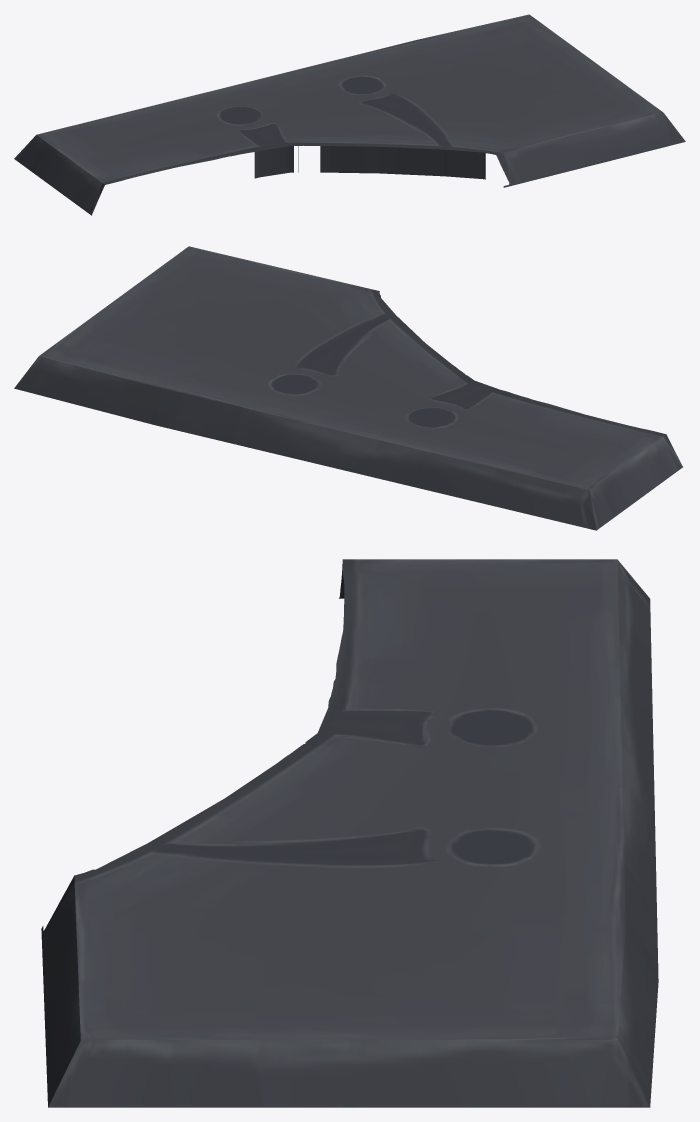
The model's file is Tile04.FBX.
3 views of the same model, one above another, from view 1: azimuth 30°, elevation 25°; view 2: azimuth 150°, elevation 25°; view 3: azimuth 270°, elevation 25° (orthographic). The views are drawn at different scales.
Parts seen in each view (by area): view 1: Box003; view 2: Box003; view 3: Box003.
Boxes of the visible parts, bbox=[...] form: Box003: bbox=[14, 14, 685, 215]; Box003: bbox=[14, 246, 682, 530]; Box003: bbox=[41, 559, 658, 1107].
Size of the model in its own units: 25.2 by 1.23 by 12.91.
